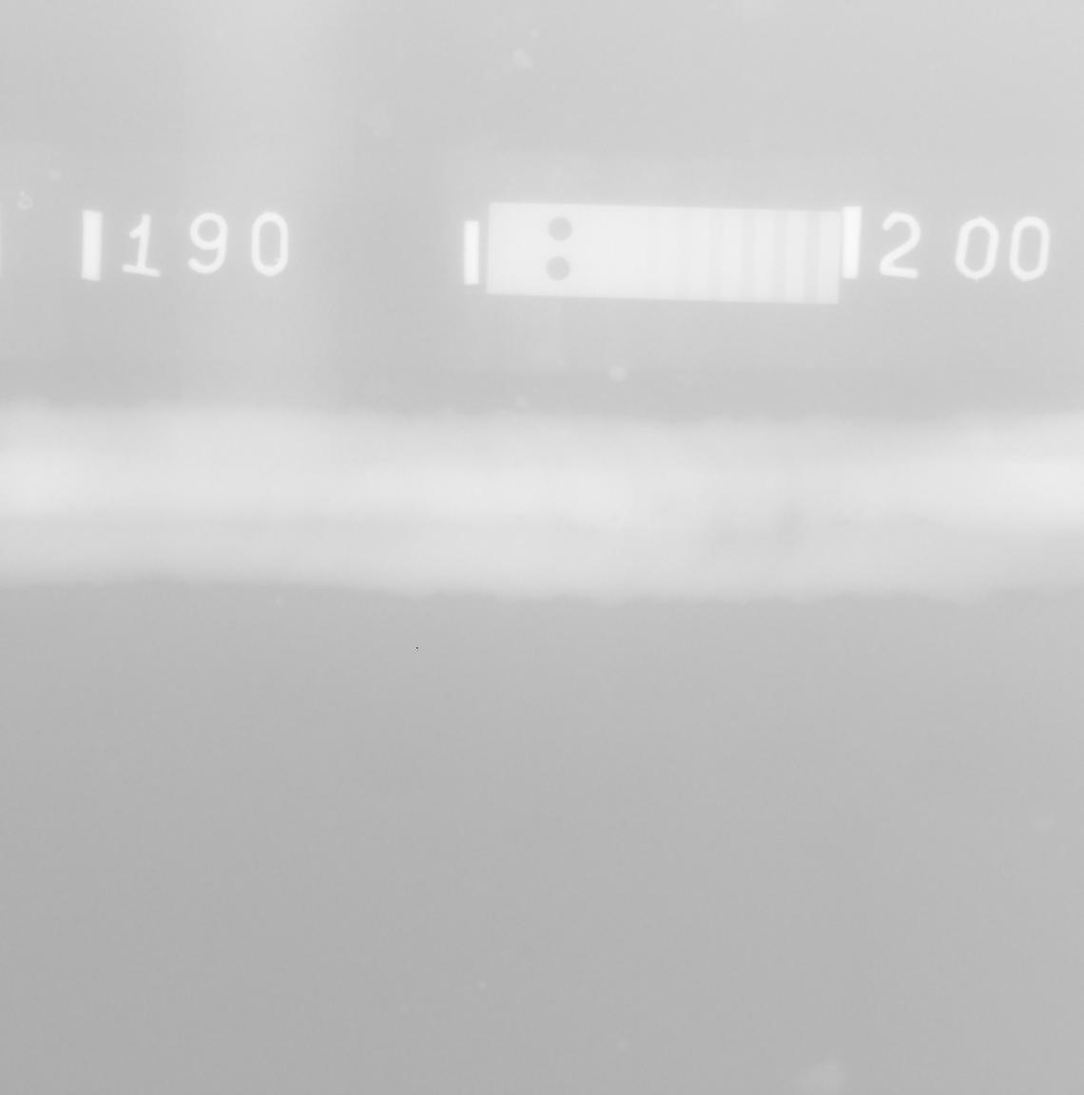Pore/Porosity: (515, 462, 523, 468), (840, 520, 849, 524), (613, 516, 617, 520)
Reference Standard 2: (486, 201, 841, 305)
